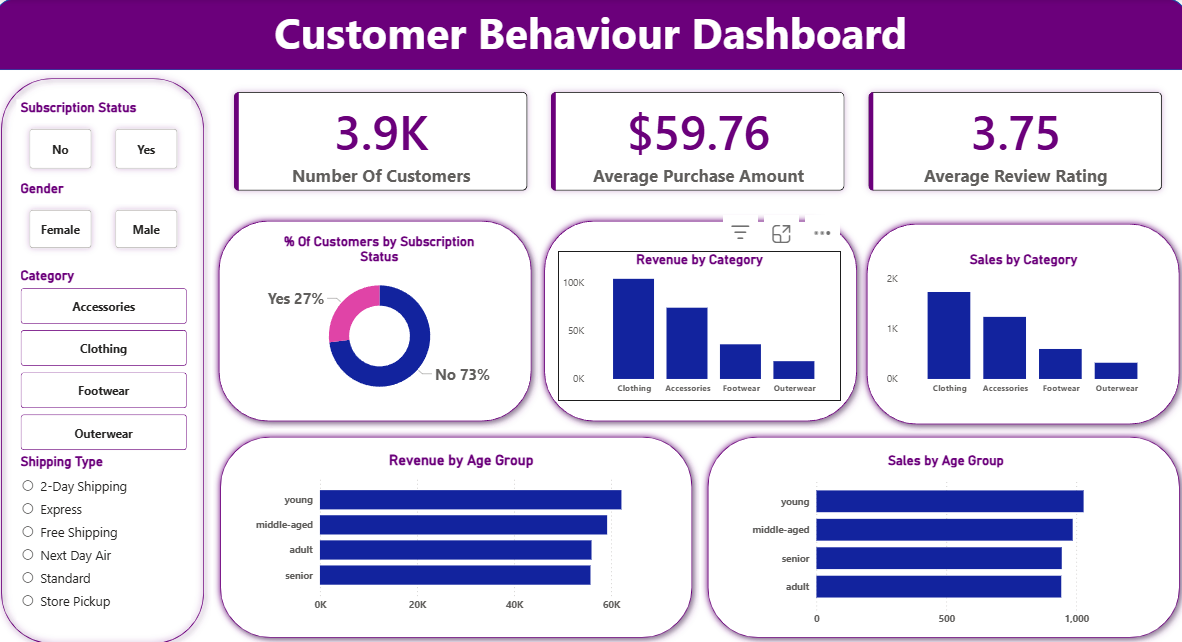

This screenshot's page, from the dashboard's own definition file:
{"tool":"powerbi","page":{"name":"Page 1","canvas":[1500,820],"ordinal":0},"visuals":[{"type":"shape","box":[275,542.1,611.8,271],"z":0},{"type":"cardVisual","fields":{"Data":["public customer.Number Of Customers","public customer.Average Purchase Amount","public customer.Average Review Rating"]},"box":[274.3,89.5,1225,181],"z":1000},{"type":"clusteredBarChart","title":"Revenue by Age Group","fields":{"Y":["Sum(public customer.purchase_amount)"],"Category":["public customer.age_group"]},"box":[322.9,570,530.1,209.3],"z":2000},{"type":"shape","box":[1.9,0,1497.5,89.5],"z":3000},{"type":"shape","box":[888.9,542.1,611.8,271],"z":4000},{"type":"textbox","box":[1.9,0,1497.5,89.5],"z":5000},{"type":"shape","box":[274.3,270.5,411.5,270.5],"z":6000},{"type":"donutChart","title":"% Of Customers by Subscription Status","fields":{"Category":["public customer.subscription_status"],"Y":["public customer.Number Of Customers"]},"box":[318.2,293.4,331.5,217.2],"z":7000},{"type":"shape","box":[682.1,270.5,411.5,270.5],"z":8000},{"type":"shape","box":[1087.9,274.3,411.5,270.5],"z":9000},{"type":"clusteredColumnChart","title":"Revenue by Category","fields":{"Y":["Sum(public customer.purchase_amount)"],"Category":["public customer.category"]},"box":[708.7,316.3,356.3,188.6],"z":10000},{"type":"clusteredColumnChart","title":"Sales by Category","fields":{"Category":["public customer.category"],"Y":["CountNonNull(public customer.customer_id)"]},"box":[1116.4,316.3,356.3,188.6],"z":11000},{"type":"shape","box":[0,89.7,273,729.4],"z":12000},{"type":"advancedSlicerVisual","title":"Subscription Status","fields":{"Values":["public customer.subscription_status"]},"box":[27.9,125.6,219.2,103.6],"z":13000},{"type":"advancedSlicerVisual","title":"Gender","fields":{"Values":["public customer.gender"]},"box":[27.9,229.2,219.2,101.6],"z":14000},{"type":"advancedSlicerVisual","title":"Category","fields":{"Values":["public customer.category"]},"box":[27.9,336.8,219.2,235.2],"z":15000},{"type":"listSlicer","title":"Shipping Type","fields":{"Values":["public customer.shipping_type"]},"box":[27.9,572,219.2,209.3],"z":16000},{"type":"clusteredBarChart","title":"Sales by Age Group","fields":{"Y":["CountNonNull(public customer.customer_id)"],"Category":["public customer.age_group"]},"box":[946.6,570,500.2,227.2],"z":17500}]}

Visuals, with their boxes in screenshot pixels (x1, y1, x2, y2), scaled from the page's 1500x820 canvas onto the 1182x642 screenshot:
shape: [left=217, top=424, right=699, bottom=637]
cardVisual - public customer.Number Of Customers x public customer.Average Purchase Amount: [left=216, top=70, right=1181, bottom=212]
"Revenue by Age Group" clusteredBarChart: [left=254, top=446, right=672, bottom=610]
shape: [left=1, top=0, right=1181, bottom=70]
shape: [left=700, top=424, right=1181, bottom=637]
textbox: [left=1, top=0, right=1181, bottom=70]
shape: [left=216, top=212, right=540, bottom=424]
"% Of Customers by Subscription Status" donutChart: [left=251, top=230, right=512, bottom=400]
shape: [left=537, top=212, right=862, bottom=424]
shape: [left=857, top=215, right=1181, bottom=427]
"Revenue by Category" clusteredColumnChart: [left=558, top=248, right=839, bottom=395]
"Sales by Category" clusteredColumnChart: [left=880, top=248, right=1160, bottom=395]
shape: [left=0, top=70, right=215, bottom=641]
"Subscription Status" advancedSlicerVisual: [left=22, top=98, right=195, bottom=179]
"Gender" advancedSlicerVisual: [left=22, top=179, right=195, bottom=259]
"Category" advancedSlicerVisual: [left=22, top=264, right=195, bottom=448]
"Shipping Type" listSlicer: [left=22, top=448, right=195, bottom=612]
"Sales by Age Group" clusteredBarChart: [left=746, top=446, right=1140, bottom=624]
